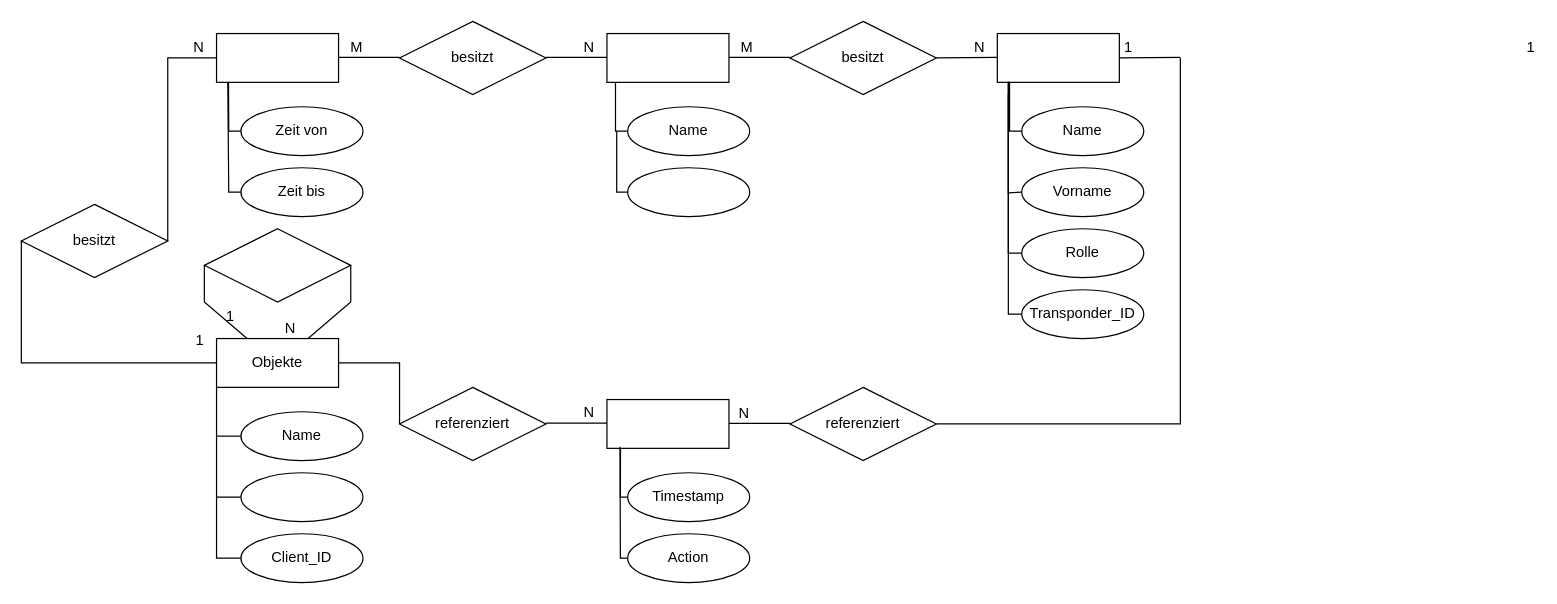
Some shapes in this 1557 by 604 pixel diagram are drawn without their labels. The box of each missing label's shape, as (x1, y1, x2, y2) in pixels:
Groups: (606, 32, 729, 82)
ist untergeordnet: (203, 228, 351, 302)
Logs: (606, 398, 729, 448)
Parent_ID: (240, 472, 363, 522)
Recht: (215, 32, 339, 82)
User: (996, 32, 1119, 82)
User_ID: (626, 167, 750, 217)
